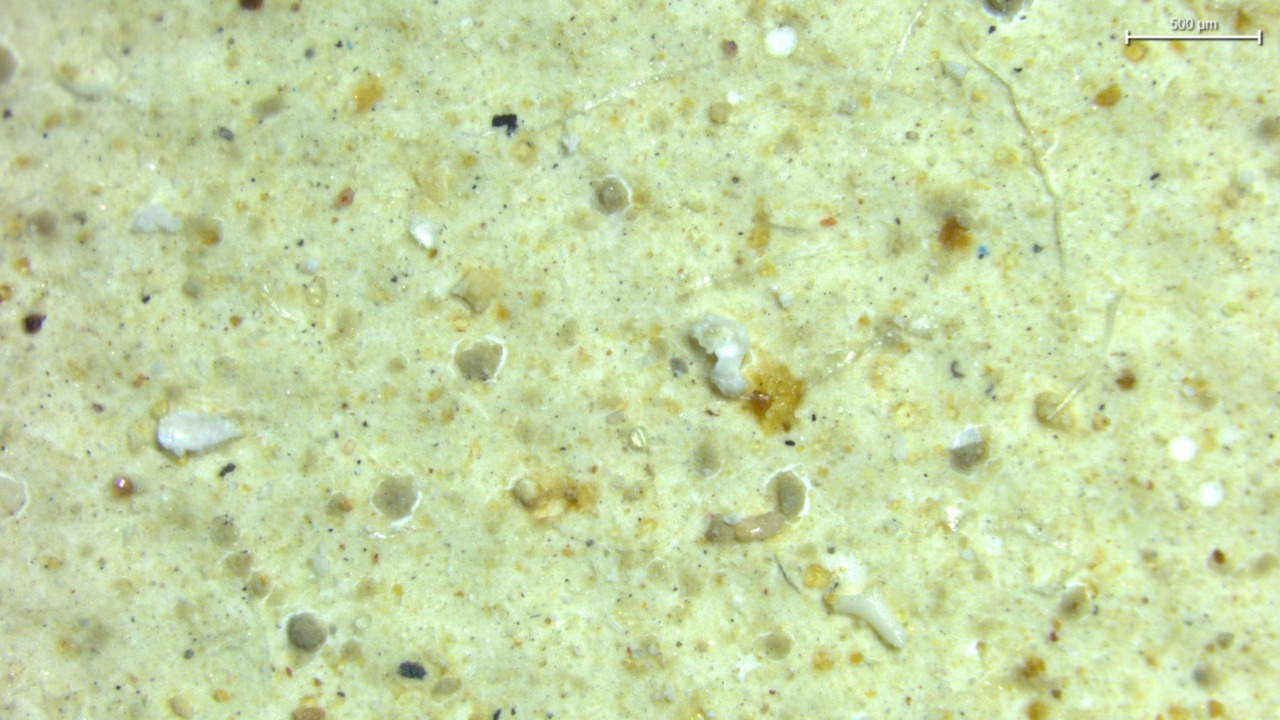microplastic_fragment: (692, 315, 749, 398), (156, 411, 241, 458), (834, 594, 905, 648), (132, 203, 181, 232), (410, 216, 440, 249)
